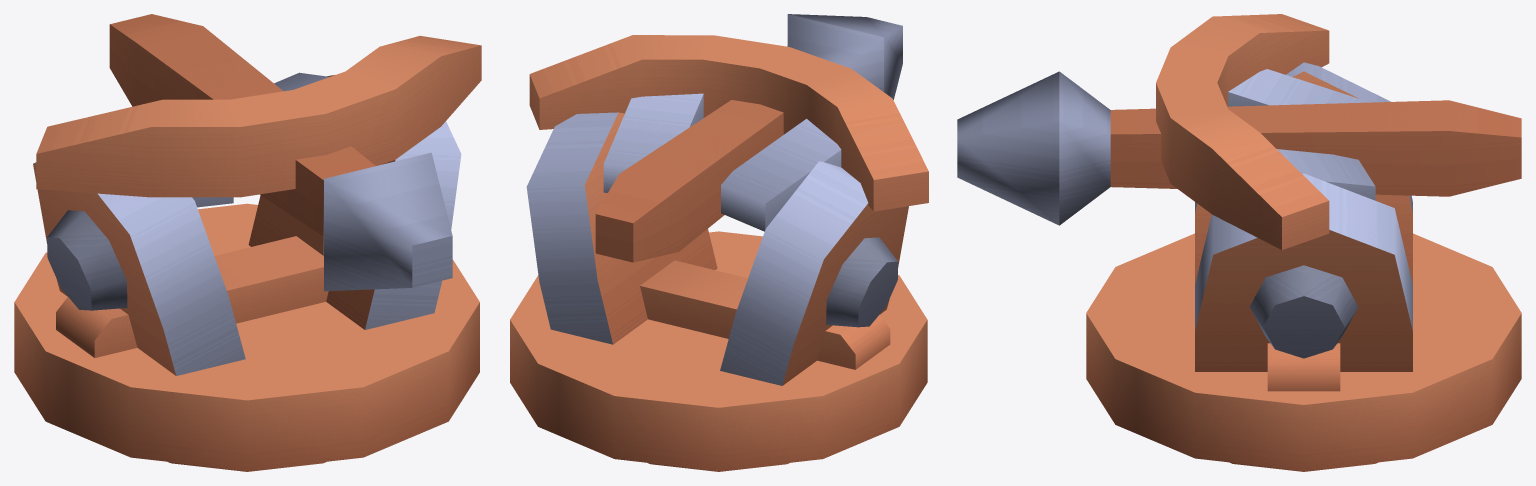
Rendered from tower-defense-kit--weapon-ballista.glb.
3 renders of one model, left to right at view 1: azimuth 30°, elevation 25°; view 2: azimuth 150°, elevation 25°; view 3: azimuth 270°, elevation 25°, orthographic. The views are drawn at different scales.
Visible parts, largest first — view 1: weapon-ballista, arrow; view 2: weapon-ballista, arrow; view 3: weapon-ballista, arrow.
Part boxes in pixels (<box>): weapon-ballista: <box>14,75,479,471</box>; arrow: <box>36,14,481,291</box>; weapon-ballista: <box>510,112,927,471</box>; arrow: <box>529,14,928,262</box>; weapon-ballista: <box>1086,62,1521,471</box>; arrow: <box>957,14,1521,249</box>.
Bounding box in the file's own units: 0.6627 × 0.5 × 0.7776.
Materials: 1 (1 with a texture image).
